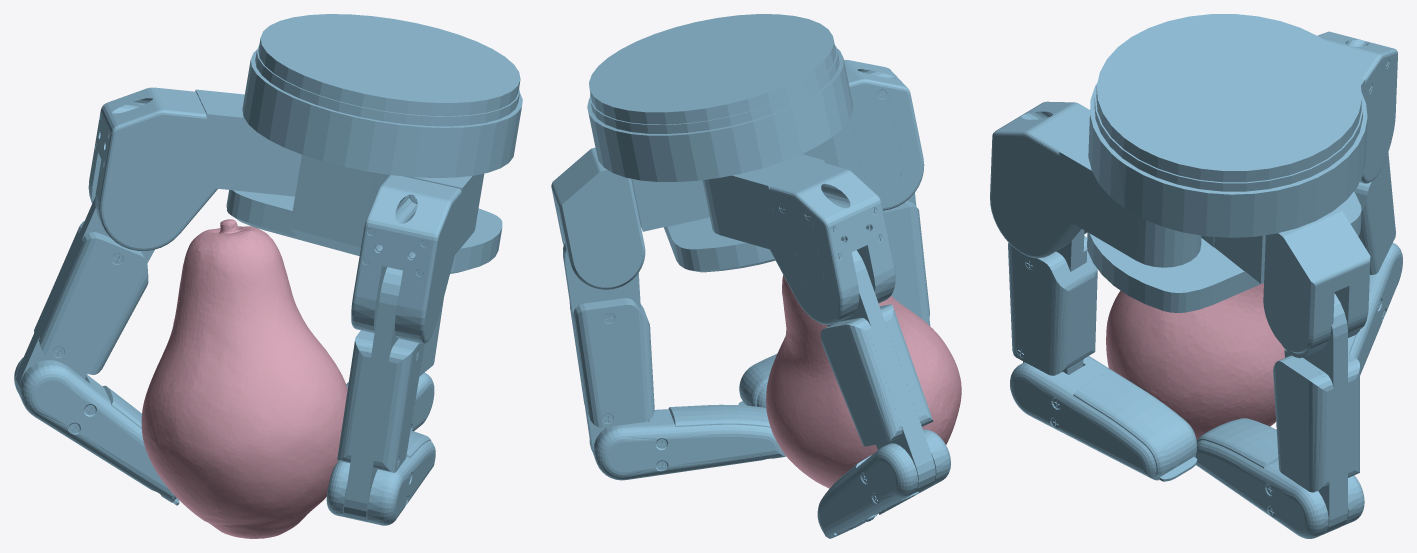
The picture shows the model from 3 angles, left to right: view 1: azimuth 30°, elevation 25°; view 2: azimuth 150°, elevation 25°; view 3: azimuth 270°, elevation 25°; orthographic projection. The views are drawn at different scales.
Parts seen in each view (by area): view 1: world; view 2: world; view 3: world.
Part boxes in pixels (<box>): world: <box>14,14,522,538</box>; world: <box>551,14,961,538</box>; world: <box>990,14,1402,538</box>.
Size of the model in its own units: 0.1625 by 0.1601 by 0.1322.
